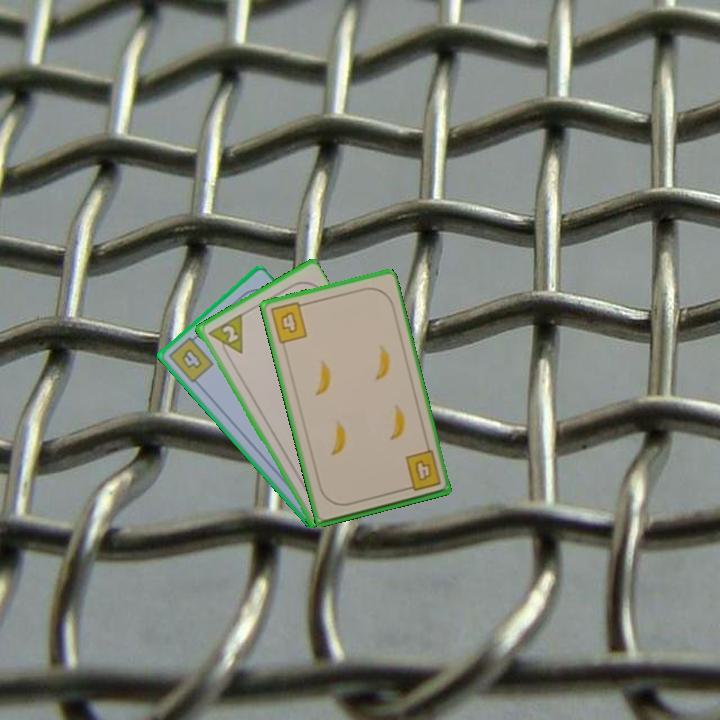2p: (204, 311, 246, 362)
4b: (165, 330, 216, 386), (266, 299, 310, 346), (400, 447, 444, 494)
